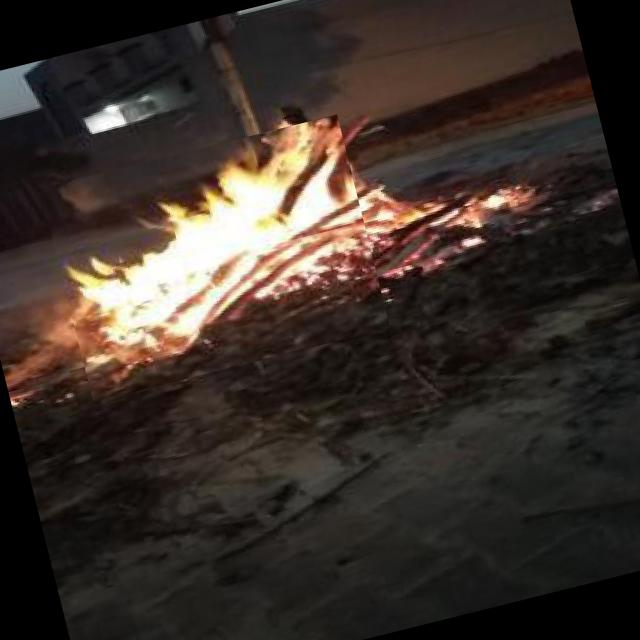fire: (40, 114, 390, 401)
